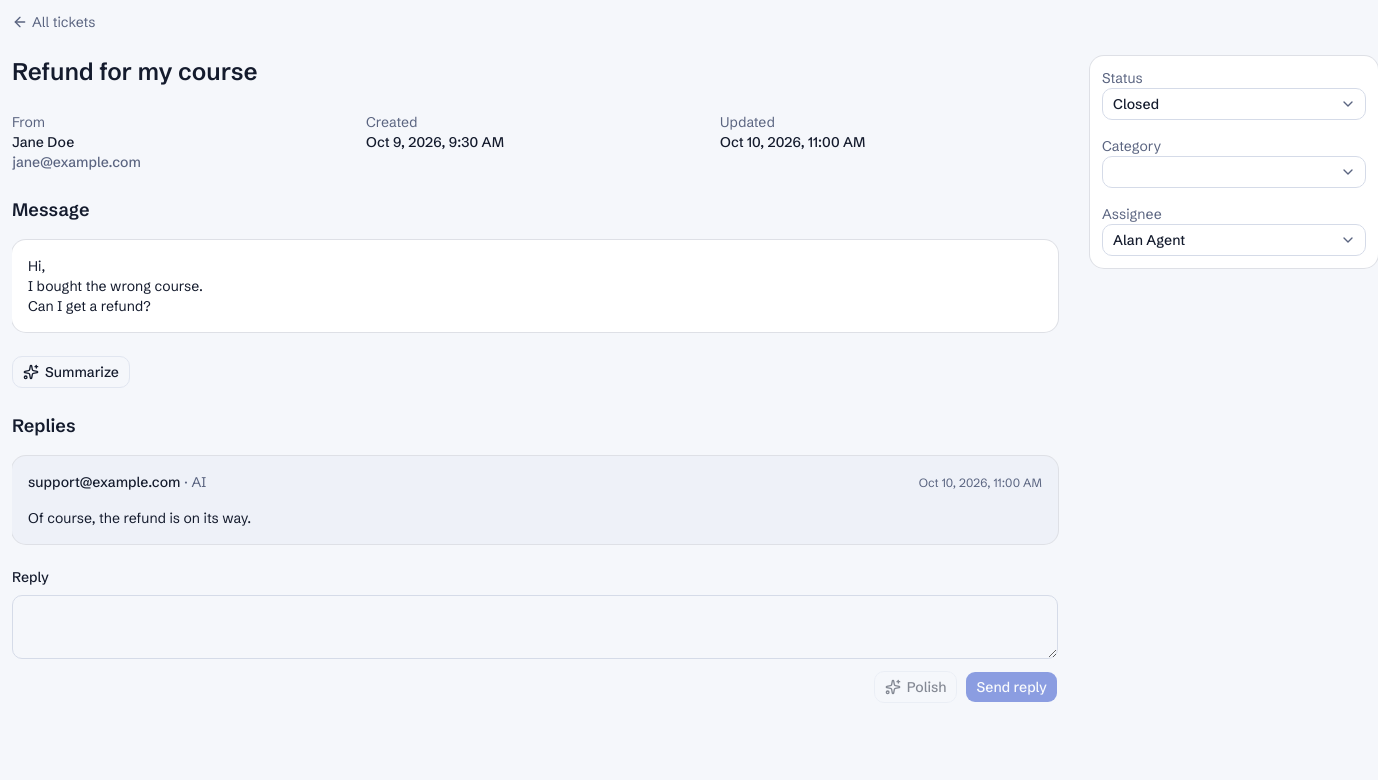
Test: TicketDetailPage assignee › shows the API's error and keeps the assignee when assigning fails
This screenshot has width=1378, height=780.
Select "Beth Admin" in the dropdown named "Assignee". click: coordinates (1234, 240)
box: [1102,224,1366,256]
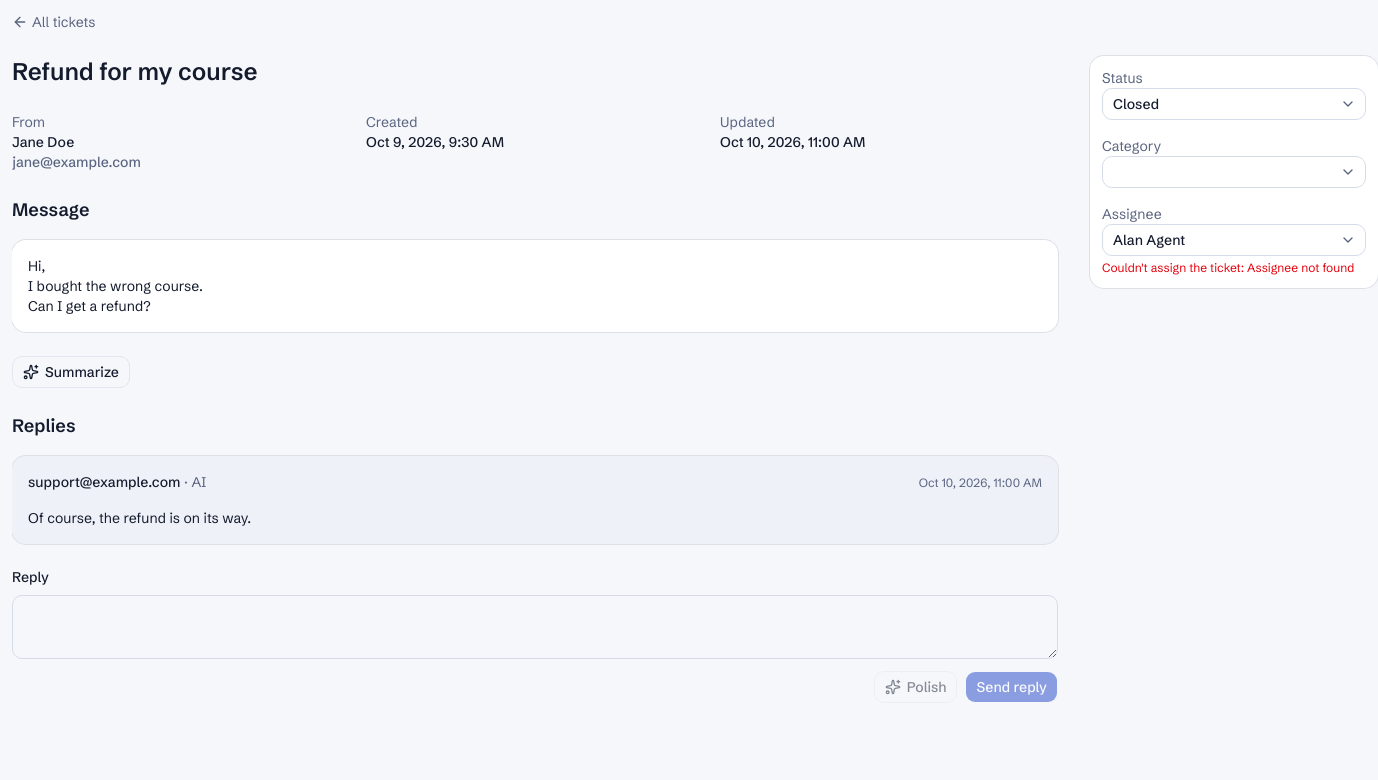
Expected: the message reads "Couldn't assign the ticket: Assignee not found", [1102,260,1366,276]
